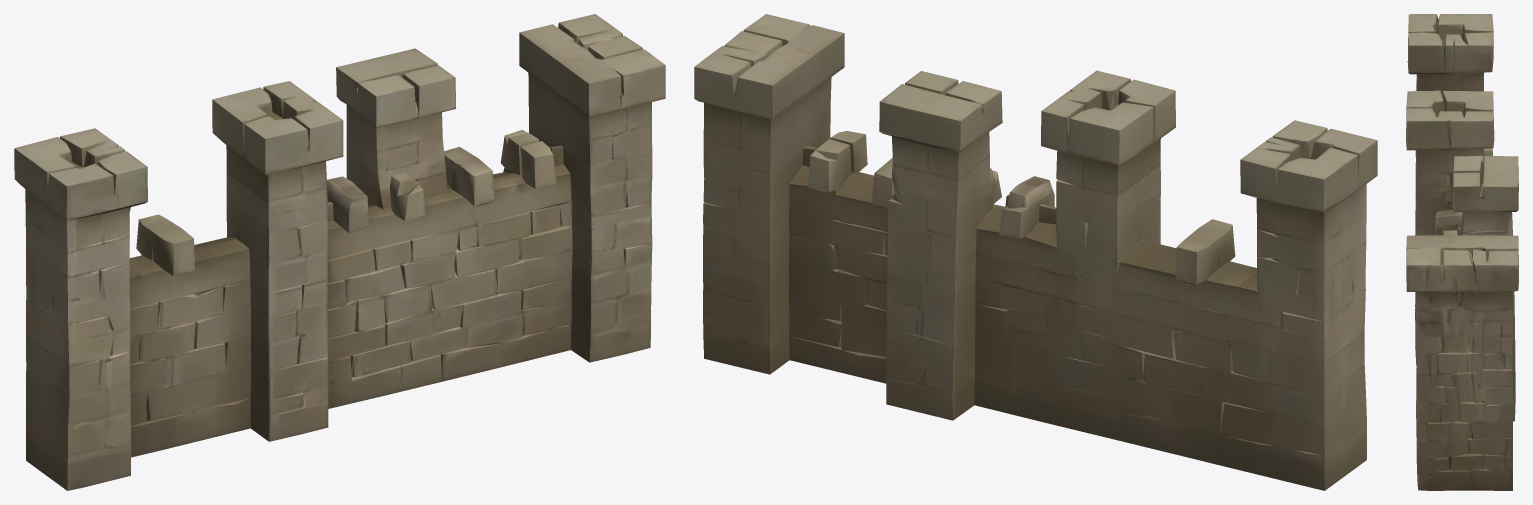
The model's file is m2CastleWallBg.glb.
The picture shows the model from 3 angles, left to right: view 1: azimuth 30°, elevation 25°; view 2: azimuth 150°, elevation 25°; view 3: azimuth 270°, elevation 25°; orthographic projection. The views are drawn at different scales.
Parts seen in each view (by area): view 1: model; view 2: model; view 3: model.
Part boxes in pixels (x1,y1,x2,y2): model: [14, 14, 665, 490]; model: [694, 14, 1377, 490]; model: [1406, 14, 1518, 490].
Size of the model in its own units: 1.9 by 0.9377 by 0.3887.
1 material, 1 textured.
